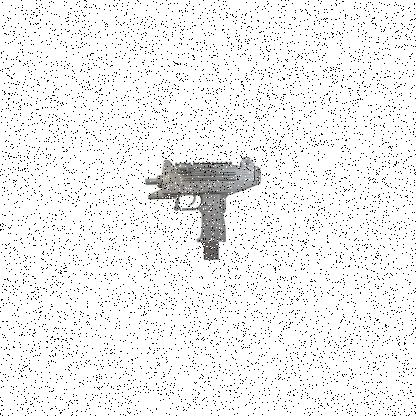gun: (144, 156, 262, 263)
